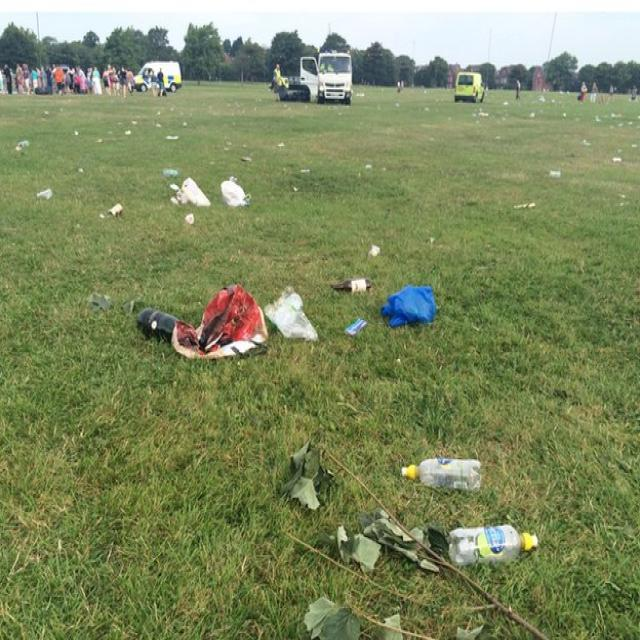plastic: (127, 271, 327, 364), (155, 161, 256, 228), (395, 444, 502, 502), (437, 512, 554, 564), (370, 274, 443, 329), (336, 269, 365, 338), (499, 182, 543, 218), (350, 150, 394, 182), (29, 182, 62, 205), (11, 130, 33, 156)
